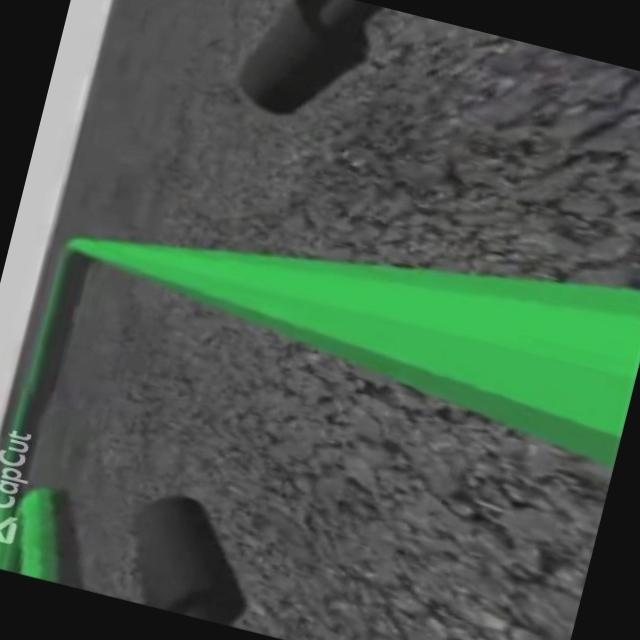gas: (74, 155, 640, 468)
